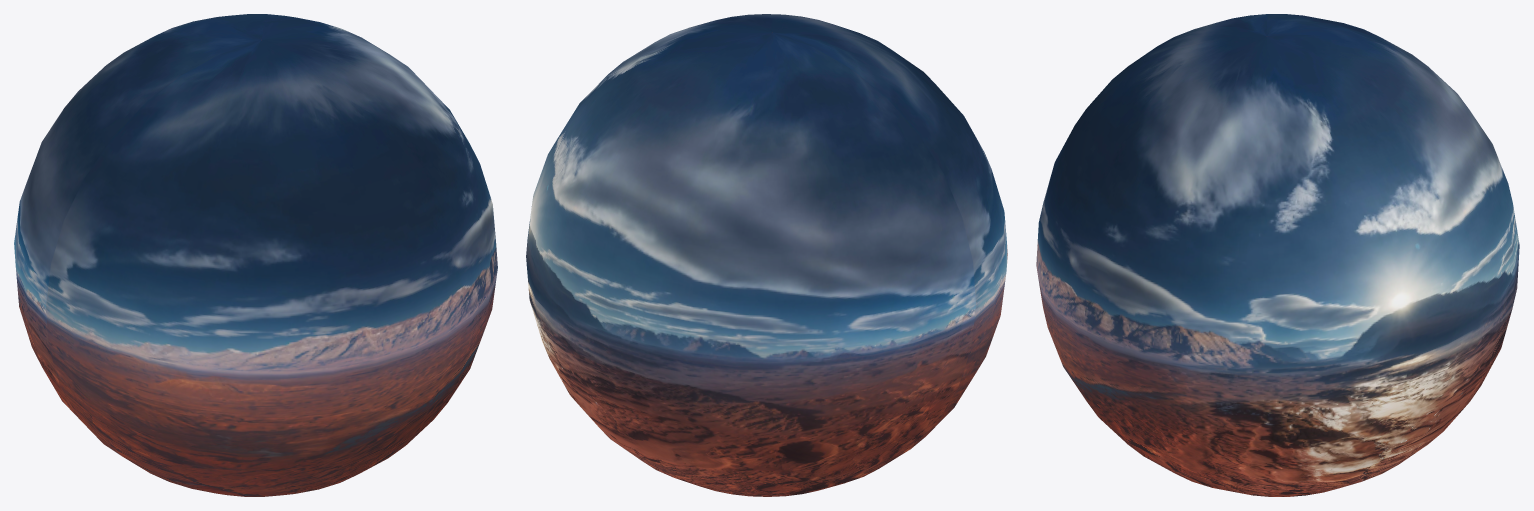
The model's file is alien-planet-landscape.glb.
3 views of the same model, side by side, from view 1: azimuth 30°, elevation 25°; view 2: azimuth 150°, elevation 25°; view 3: azimuth 270°, elevation 25° (orthographic).
Visible parts, largest first — view 1: Landscape of an Alien Planet by Jungle Jim_Landscape of an a; view 2: Landscape of an Alien Planet by Jungle Jim_Landscape of an a; view 3: Landscape of an Alien Planet by Jungle Jim_Landscape of an a.
Part boxes in pixels (left/top/right/bottom): Landscape of an Alien Planet by Jungle Jim_Landscape of an a: left=14, top=14, right=497, bottom=496; Landscape of an Alien Planet by Jungle Jim_Landscape of an a: left=526, top=14, right=1007, bottom=496; Landscape of an Alien Planet by Jungle Jim_Landscape of an a: left=1036, top=14, right=1519, bottom=496.
Bounding box in the file's own units: 760 × 759 × 759.
Materials: 1 (1 with a texture image).
